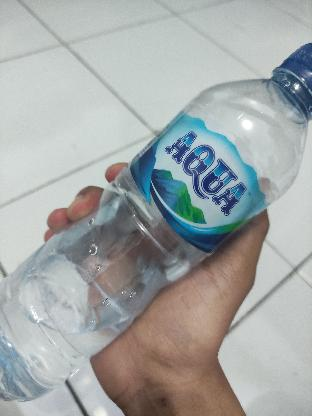Plastic Bottle: (0, 25, 312, 411)
